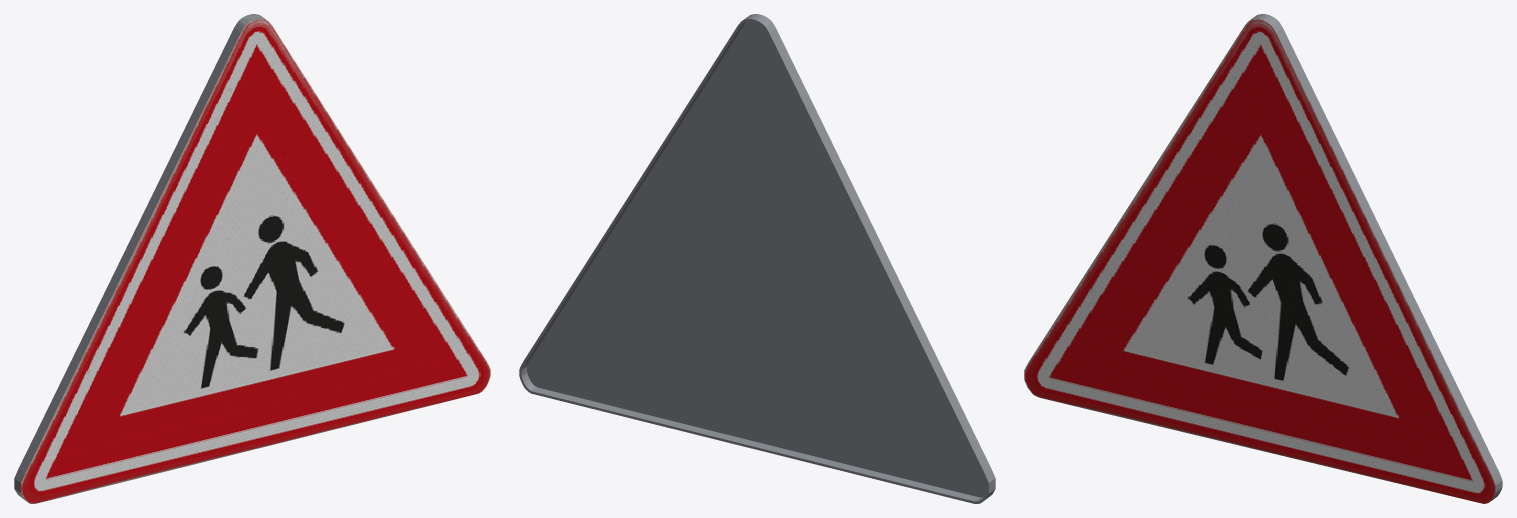
3 views of the same model, side by side, from view 1: azimuth 30°, elevation 25°; view 2: azimuth 150°, elevation 25°; view 3: azimuth 330°, elevation 25° (orthographic).
Visible parts, largest first — view 1: cat_ad68d773be8138fe; view 2: cat_ad68d773be8138fe; view 3: cat_ad68d773be8138fe.
Part boxes in pixels (<box>): cat_ad68d773be8138fe: <box>14,14,490,503</box>; cat_ad68d773be8138fe: <box>519,14,995,503</box>; cat_ad68d773be8138fe: <box>1024,14,1502,503</box>.
Bounding box in the file's own units: 0.6 × 0.015 × 0.5256.
2 materials, 1 textured.
